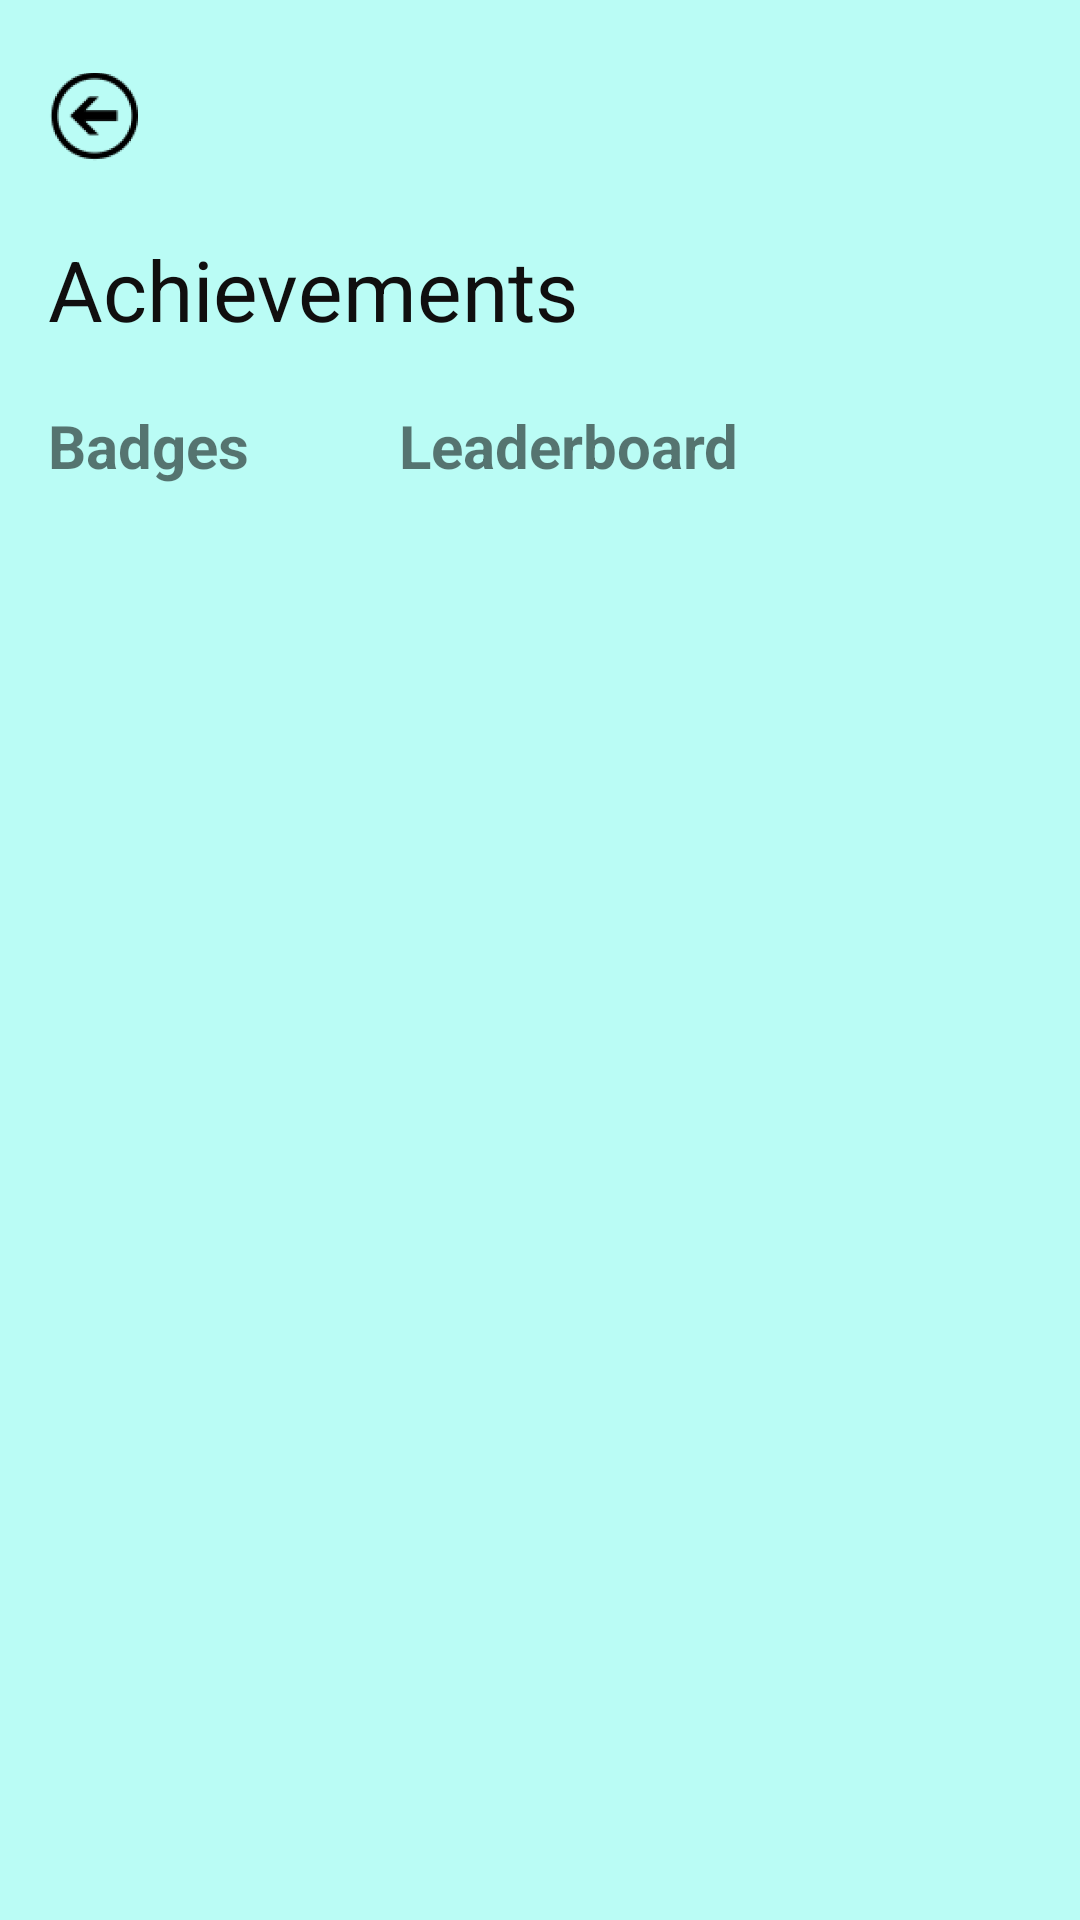

Where to tap for icons on this 1080px x 1920px app screen, as (x=x, y=y):
back: (x=94, y=116)
